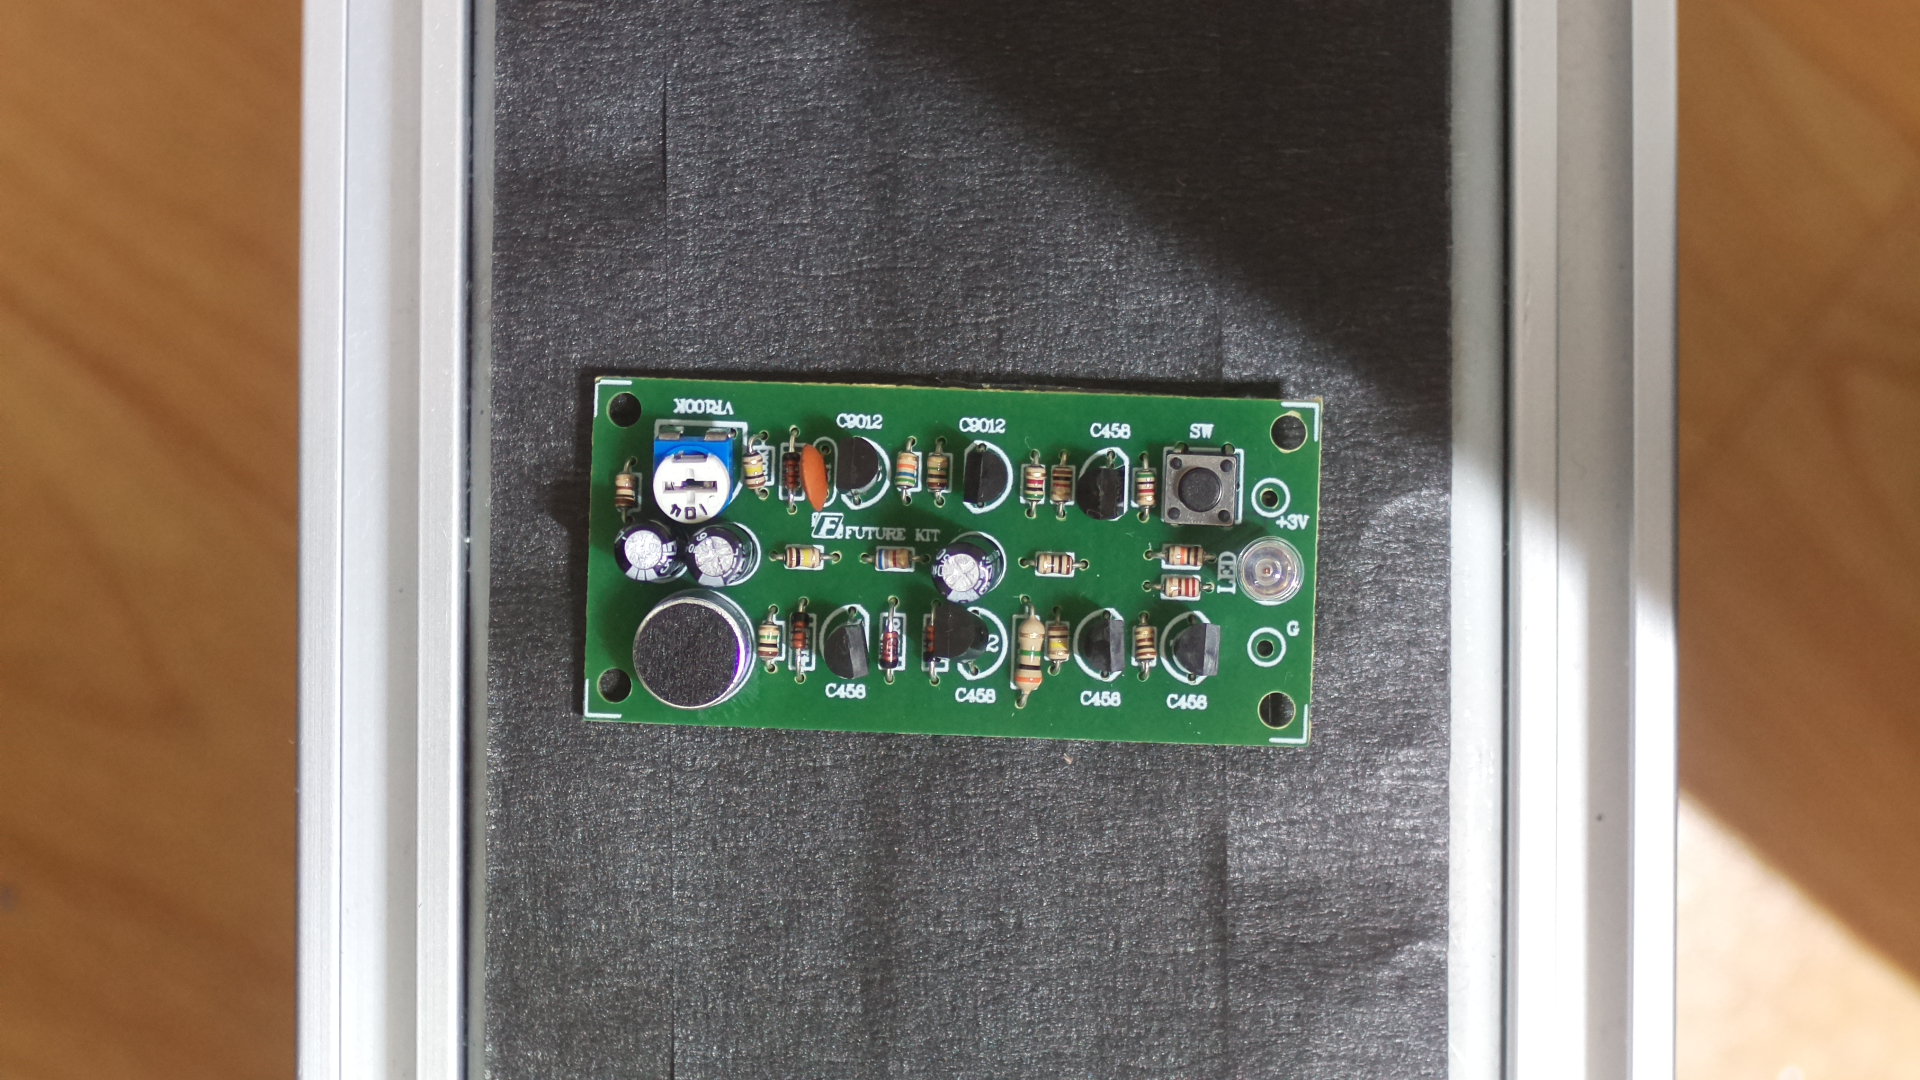A_Normal: (578, 371, 1331, 765)
